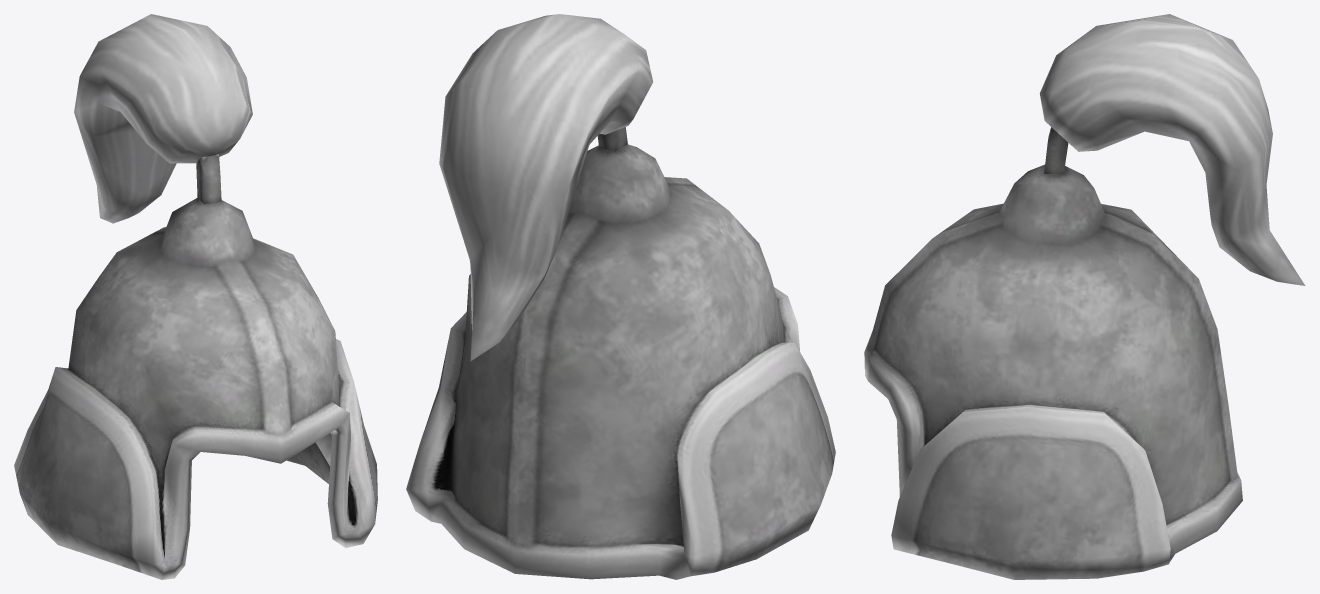
The model's file is helmet-heavyinfantry.glb.
The picture shows the model from 3 angles, left to right: view 1: azimuth 30°, elevation 25°; view 2: azimuth 150°, elevation 25°; view 3: azimuth 270°, elevation 25°; orthographic projection. The views are drawn at different scales.
Bounding box in the file's own units: 0.3092 × 0.4179 × 0.3399.
1 material, 1 textured.
